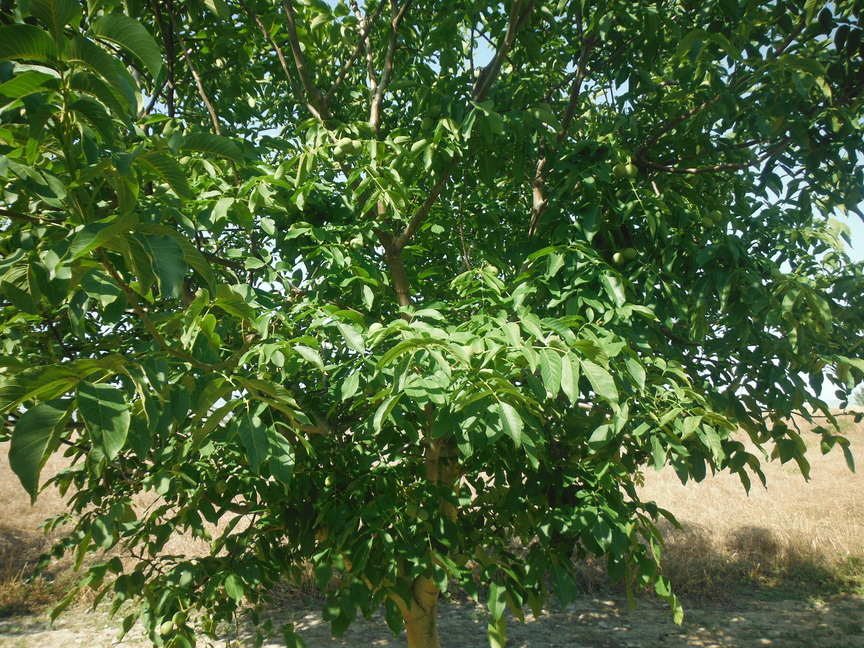walnut: (171, 607, 189, 629), (159, 619, 175, 638), (367, 320, 385, 336), (768, 264, 784, 282), (609, 250, 625, 267), (622, 245, 640, 260), (415, 506, 431, 522), (611, 161, 627, 177), (427, 103, 442, 120), (420, 115, 435, 132), (322, 168, 337, 184), (338, 135, 353, 151), (349, 139, 364, 155), (460, 345, 476, 360), (624, 162, 639, 178), (349, 237, 366, 251), (485, 263, 499, 279), (699, 216, 714, 230), (331, 145, 347, 158), (216, 479, 230, 493), (404, 503, 418, 517), (324, 472, 337, 487), (709, 209, 724, 222), (607, 108, 619, 122), (330, 160, 341, 171), (213, 485, 222, 495)
